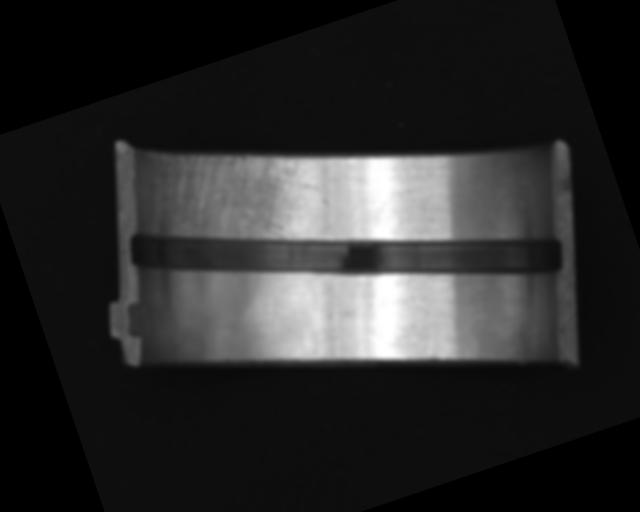gap: (123, 104, 570, 400)
scratch: (136, 107, 331, 283)
